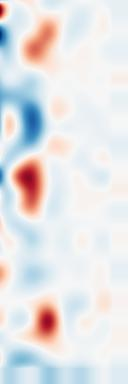filament: (10, 152, 57, 224), (18, 9, 66, 72), (26, 290, 71, 351)
